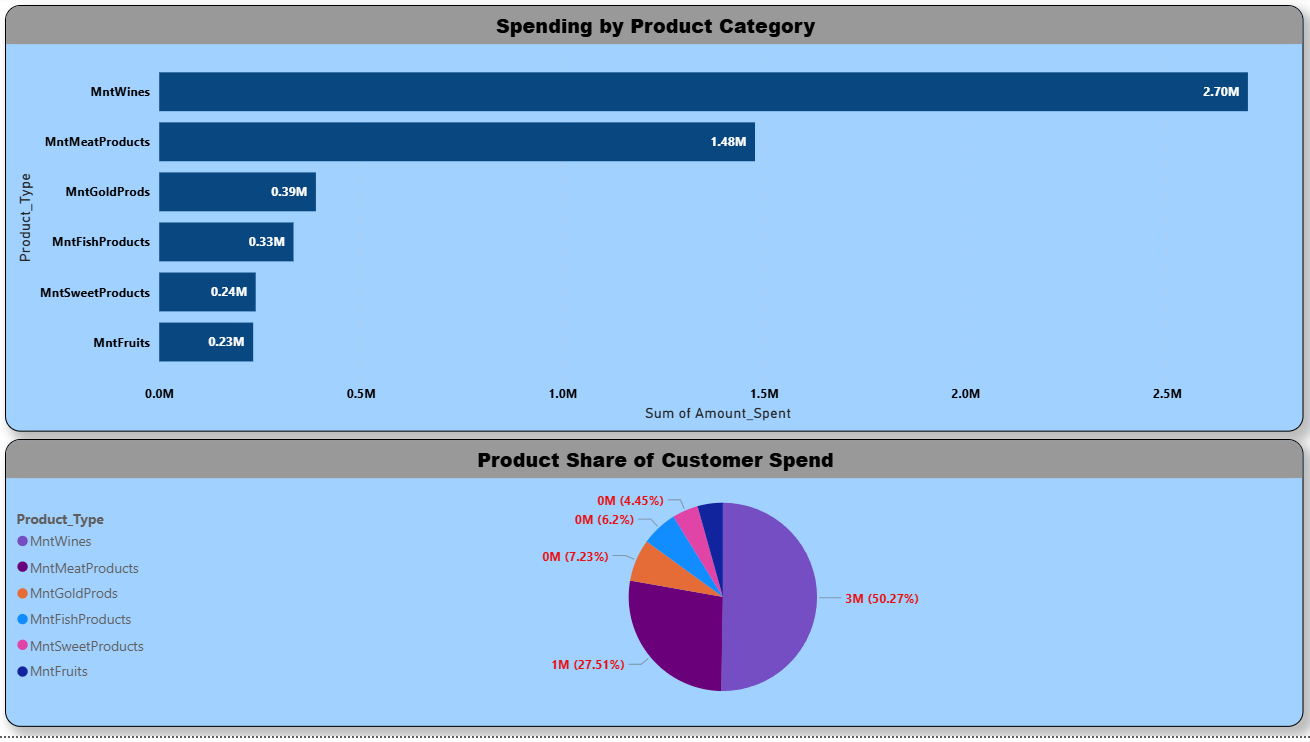

The page's visual inventory and layout, read from the dashboard file:
{"tool":"powerbi","page":{"name":"\tProduct Performance","canvas":[1280,720],"ordinal":3},"visuals":[{"type":"barChart","title":"Spending by Product Category","fields":{"Category":["marketing_data.Product_Type"],"Y":["Sum(marketing_data.Amount_Spent)"]},"box":[9.7,8.8,1263.5,415.3],"z":0},{"type":"pieChart","title":"Product Share of Customer Spend","fields":{"Category":["marketing_data.Product_Type"],"Y":["Sum(marketing_data.Amount_Spent)"]},"box":[9.7,430.9,1263.5,280.1],"z":1}]}

Visuals, with their boxes in screenshot pixels (x1, y1, x2, y2), scaled from the page's 1280x720 canvas onto the 1310x742 screenshot:
"Spending by Product Category" barChart: BBox(10, 9, 1303, 437)
"Product Share of Customer Spend" pieChart: BBox(10, 444, 1303, 733)
